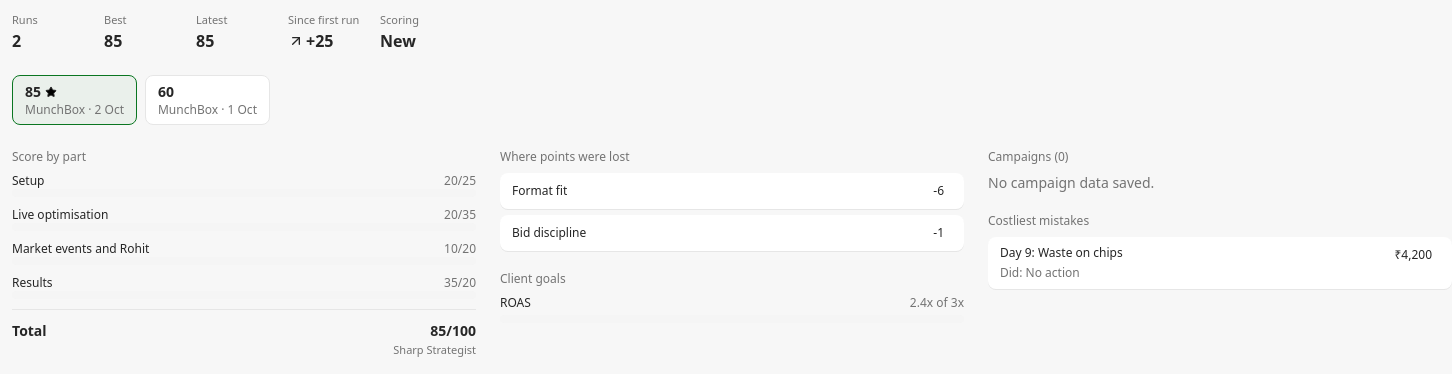
Test case: StudentRowDetail › switches to another run from the strip
Step 1. Click the tab "60 MunchBox · 1 Oct" → (208, 100), box [145,74,270,124]
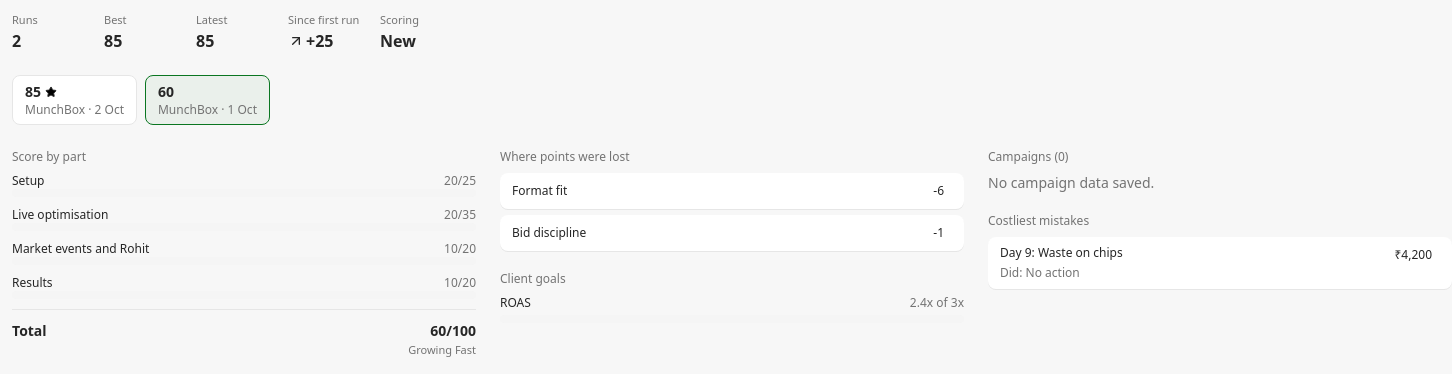
Now the text "60/100" is shown, box [430,320,476,340]
